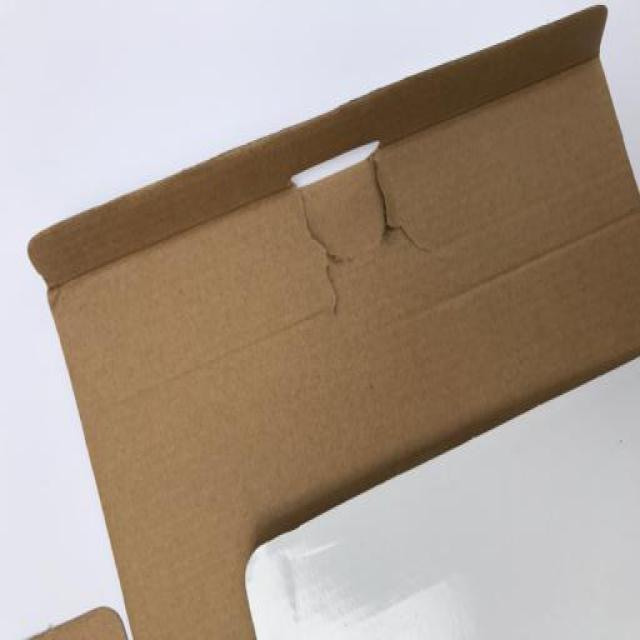cardboard: (29, 10, 640, 640)
